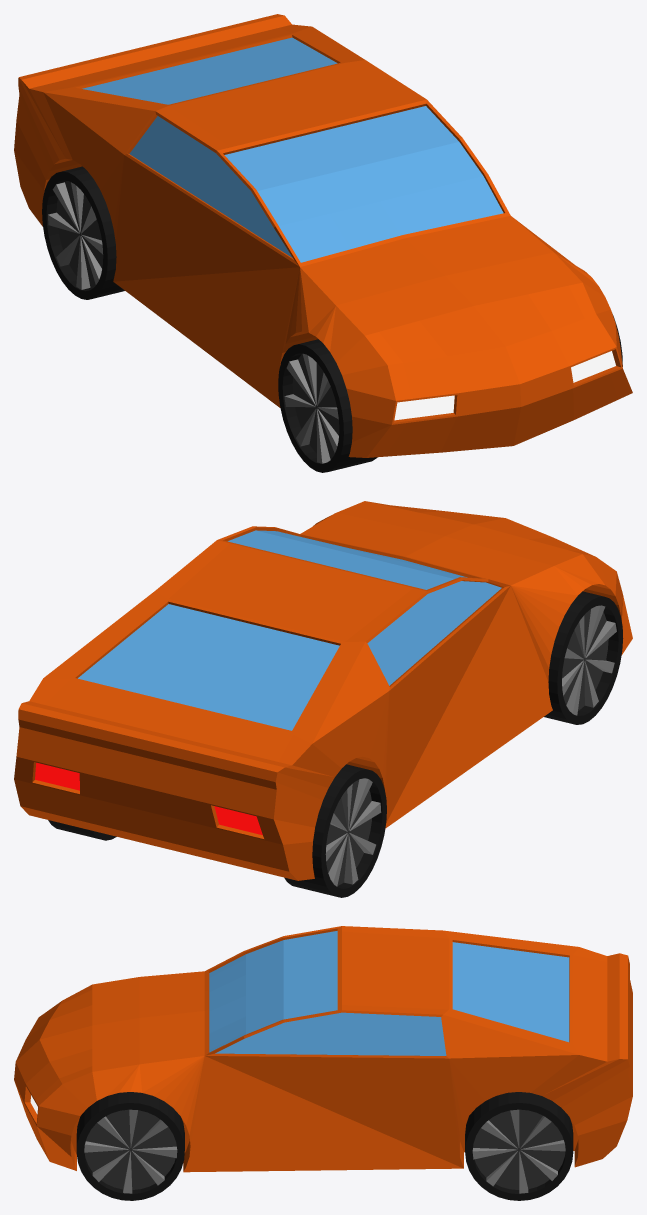
Rendered from Sportwagen.glb.
The picture shows the model from 3 angles, top to bottom: view 1: azimuth 30°, elevation 25°; view 2: azimuth 150°, elevation 25°; view 3: azimuth 270°, elevation 25°; orthographic projection. The views are drawn at different scales.
Visible parts, largest first — view 1: Karrosserie, Hinterrad.002, Hinterrad.003; view 2: Karrosserie, Hinterrad.003, Hinterrad.002; view 3: Karrosserie, Hinterrad.001, Hinterrad.
Boxes of the visible parts, box(x1,y1,x2,y2) form: Karrosserie: box(14, 14, 632, 457); Hinterrad.002: box(278, 339, 377, 472); Hinterrad.003: box(42, 166, 124, 299); Karrosserie: box(14, 501, 632, 880); Hinterrad.003: box(284, 764, 386, 897); Hinterrad.002: box(544, 591, 623, 724); Karrosserie: box(14, 926, 632, 1172); Hinterrad.001: box(76, 1092, 184, 1200); Hinterrad: box(465, 1092, 573, 1200).
Size of the model in its own units: 1.89 by 1.39 by 4.41.
